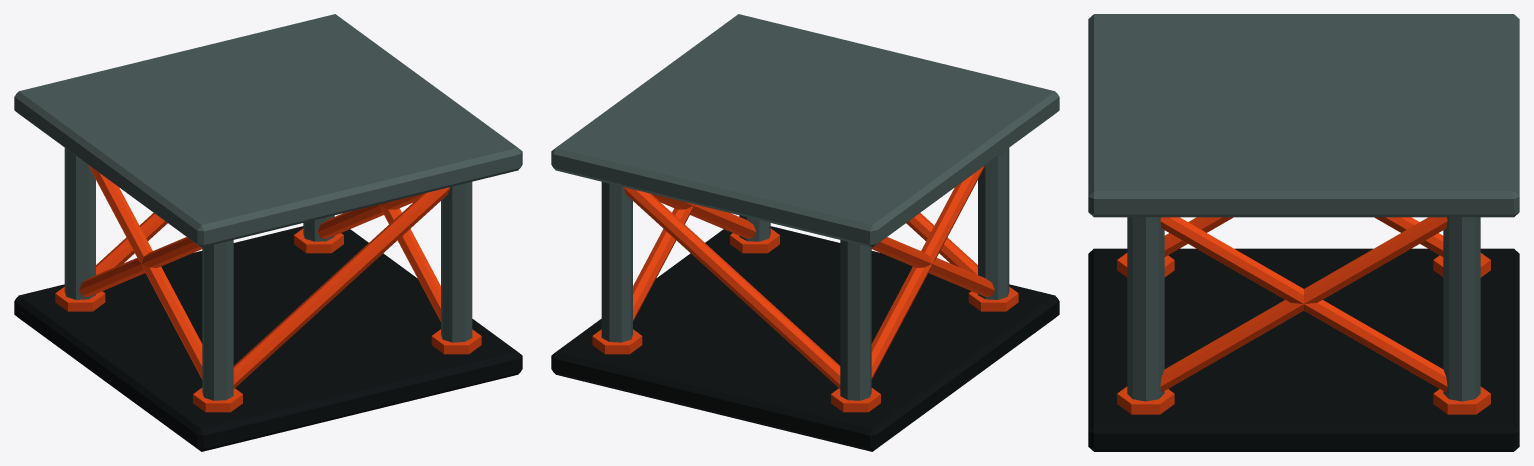
Rendered from SM_MP_Foundation_Support.fbx.
3 views of the same model, side by side, from view 1: azimuth 30°, elevation 25°; view 2: azimuth 150°, elevation 25°; view 3: azimuth 270°, elevation 25° (orthographic). The views are drawn at different scales.
Parts seen in each view (by area): view 1: SM_MP_Foundation_Support; view 2: SM_MP_Foundation_Support; view 3: SM_MP_Foundation_Support.
Boxes of the visible parts, x1,y1,x2,y2 form: SM_MP_Foundation_Support: (14, 14, 522, 451); SM_MP_Foundation_Support: (551, 14, 1059, 451); SM_MP_Foundation_Support: (1088, 14, 1519, 451).
Bounding box in the file's own units: 150 × 150 × 100.
1 material, 1 textured.
